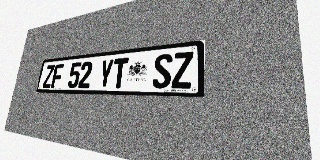2: (78, 61, 93, 88)
5: (67, 62, 82, 88)
F: (51, 64, 64, 88)
S: (152, 53, 173, 88)
T: (111, 57, 129, 88)
Y: (98, 59, 114, 88)
Z: (171, 51, 194, 88), (42, 65, 55, 88)
